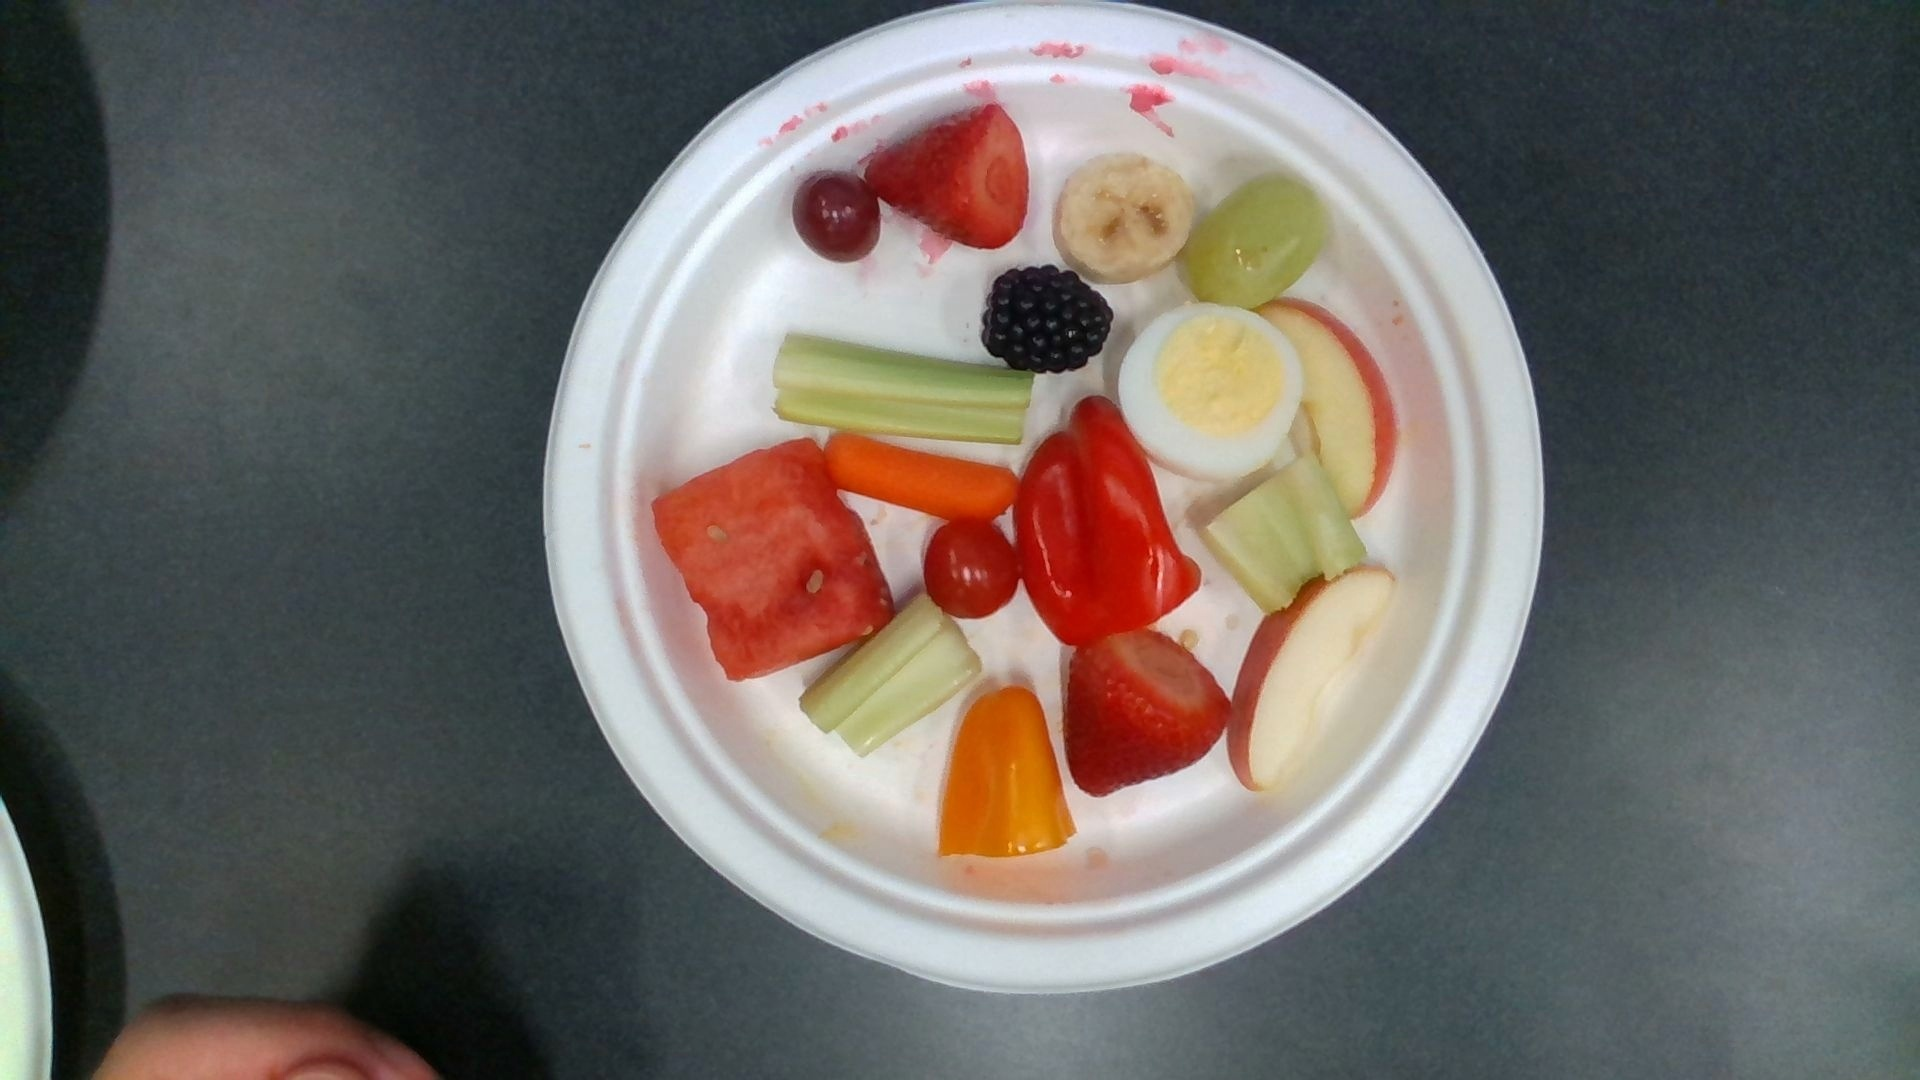apple: (1229, 568, 1394, 786), (1257, 301, 1395, 518)
banana: (1055, 156, 1189, 278)
bell_pepper: (1017, 400, 1199, 646), (940, 688, 1075, 858)
blackberry: (989, 266, 1112, 373)
carrot: (825, 431, 1019, 521)
celery: (775, 330, 1033, 438), (804, 596, 977, 752), (1207, 458, 1365, 613)
cherry_tomato: (927, 520, 1021, 620)
egg: (1120, 306, 1304, 471)
grape_green: (1185, 173, 1327, 306)
grape_purple: (794, 167, 877, 262)
melon: (654, 435, 890, 680)
strawberry: (1065, 630, 1226, 790), (870, 105, 1027, 251)
